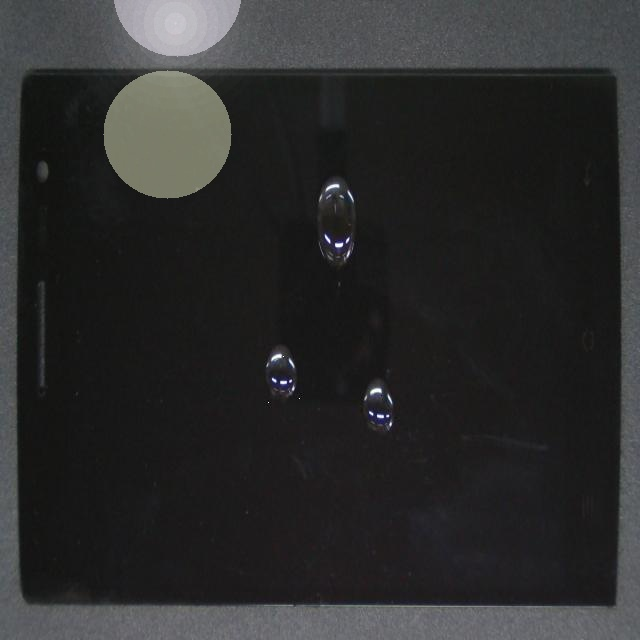oil: (195, 156, 552, 571), (105, 186, 402, 592), (172, 61, 475, 282)
